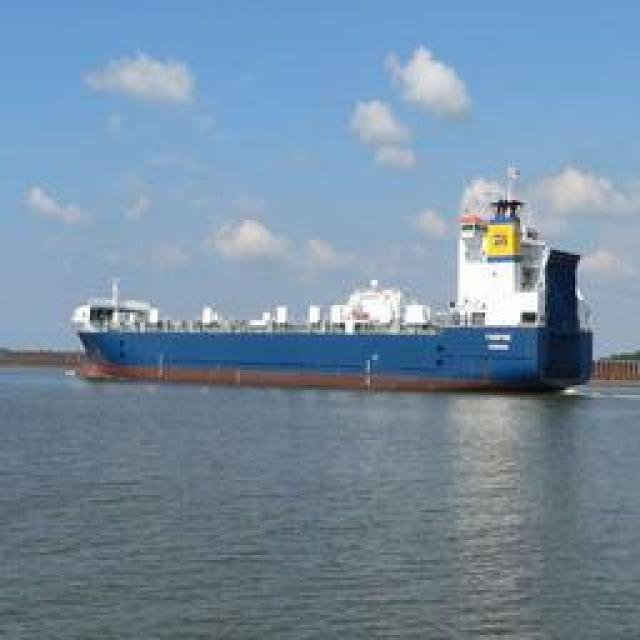CIV_Ship: (71, 238, 591, 390)
